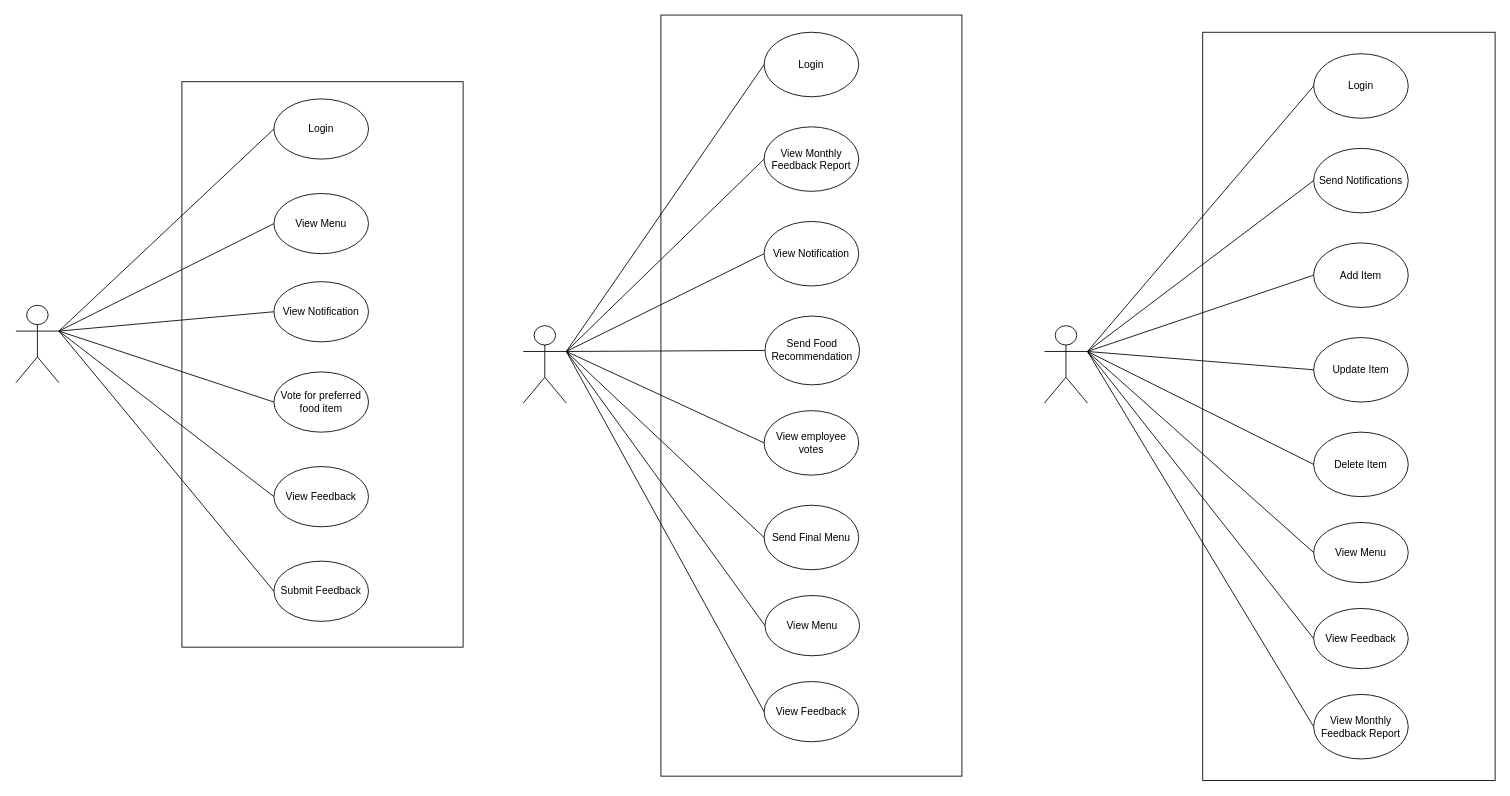
The diagram is 1510 pixels wide and 796 high, and some of its shapes have lost their labels. Here are the shapes that lost their labels. From the top down, the centre of each, then its label:
At pixel 37 343: "Employee".
At pixel 544 364: "Chef".
At pixel 1065 364: "Admin".
